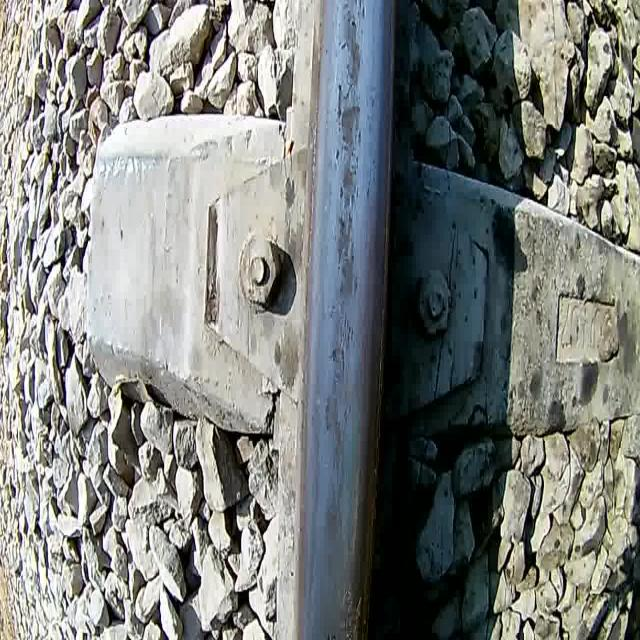Squats: (329, 214, 363, 302), (319, 386, 352, 475), (335, 5, 364, 95), (332, 154, 362, 212), (334, 101, 365, 150), (322, 501, 340, 585)
